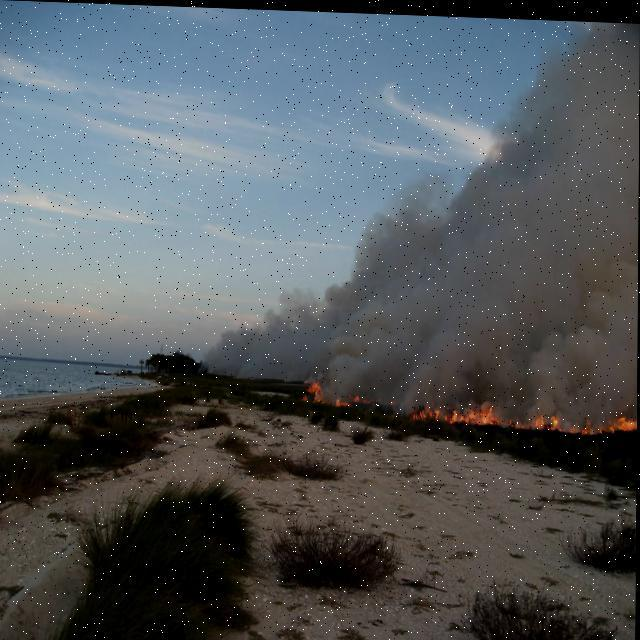Fire: (408, 392, 636, 441), (331, 390, 366, 405), (305, 376, 325, 401)
